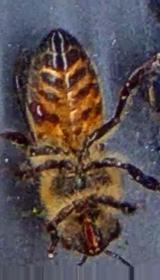varroa_mite: (26, 91, 50, 124)
